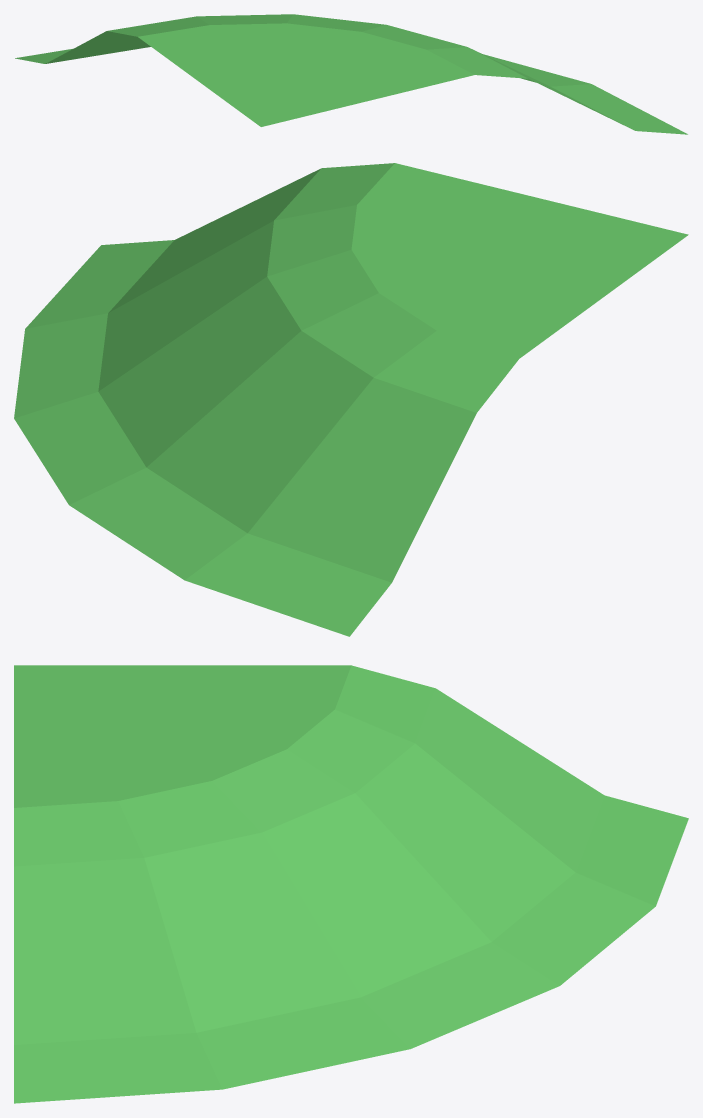
File: Hilly_Terrain_Hill_Corner_Outer_4x4.glb
3 renders of one model, top to bottom at view 1: azimuth 30°, elevation 25°; view 2: azimuth 150°, elevation 25°; view 3: azimuth 270°, elevation 25°, orthographic. The views are drawn at different scales.
Visible parts, largest first — view 1: Hilly_Terrain_Hill_Corner_Outer_4x4; view 2: Hilly_Terrain_Hill_Corner_Outer_4x4; view 3: Hilly_Terrain_Hill_Corner_Outer_4x4.
Part boxes in pixels (box(x1,y1,x2,y2)): Hilly_Terrain_Hill_Corner_Outer_4x4: box(15, 14, 687, 134); Hilly_Terrain_Hill_Corner_Outer_4x4: box(14, 163, 688, 636); Hilly_Terrain_Hill_Corner_Outer_4x4: box(14, 665, 688, 1103).
Size of the model in its own units: 2.12 by 0.53 by 2.12.
